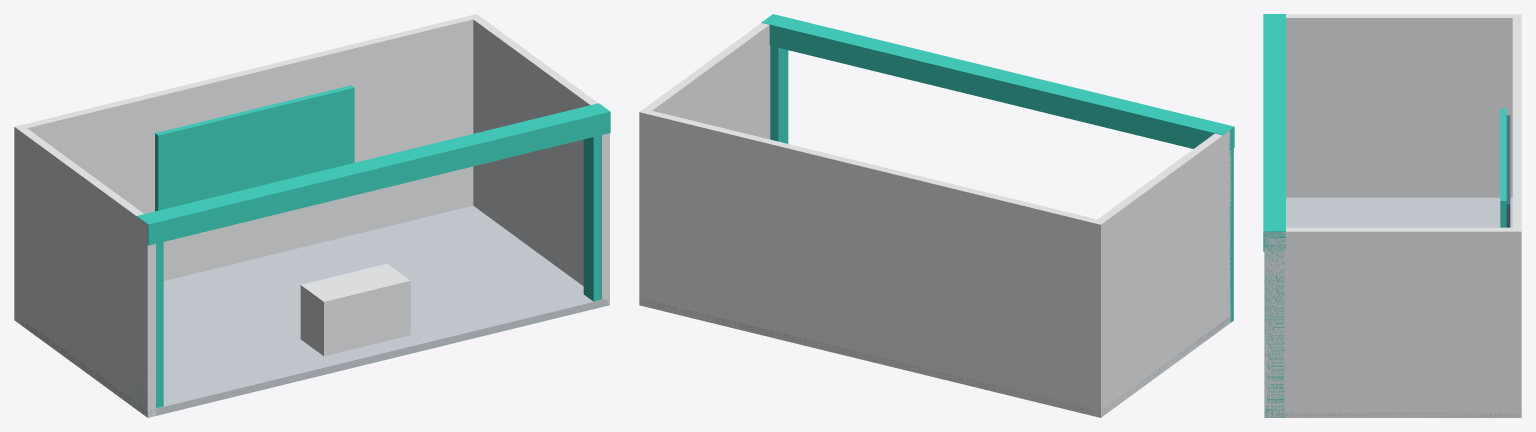
3 renders of one model, left to right at view 1: azimuth 30°, elevation 25°; view 2: azimuth 150°, elevation 25°; view 3: azimuth 270°, elevation 25°, orthographic. The views are drawn at different scales.
Parts seen in each view (by area): view 1: Exhibition Booth Concept; view 2: Exhibition Booth Concept; view 3: Exhibition Booth Concept.
Part boxes in pixels (box(x1,y1,x2,y2)): Exhibition Booth Concept: box(14, 14, 610, 417); Exhibition Booth Concept: box(639, 14, 1234, 417); Exhibition Booth Concept: box(1263, 14, 1521, 417).
Size of the model in its own units: 8 by 3.2 by 4.02.
